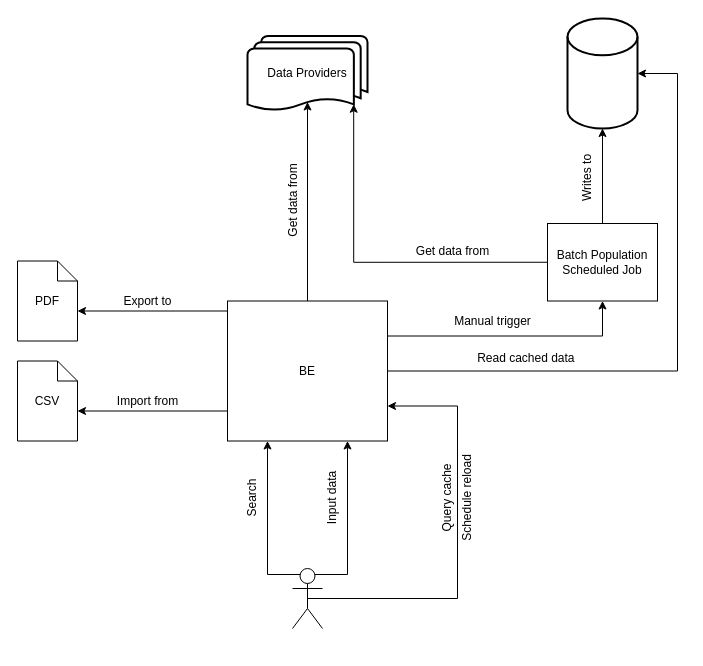
This 703x666 diagram has some shape labels left out. Each missing label, with the centre of its shape:
Actor: (x=307, y=598)
PostgreSQL: (x=602, y=73)
